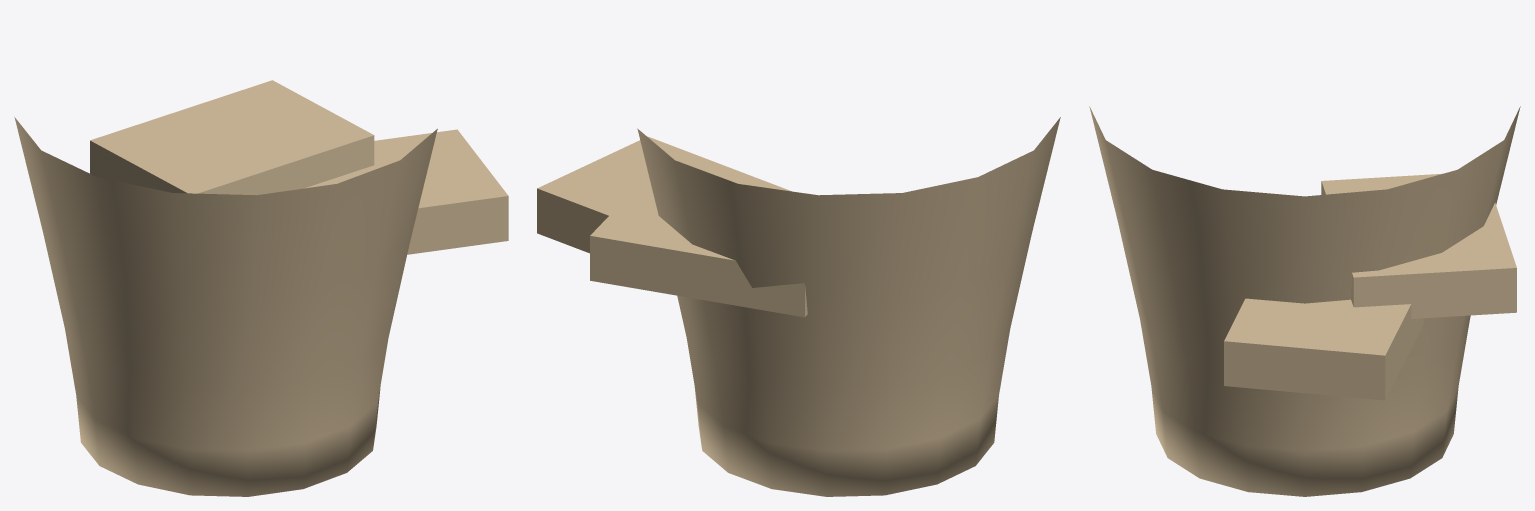
File: GioQuanAo.glb
3 renders of one model, left to right at view 1: azimuth 30°, elevation 25°; view 2: azimuth 150°, elevation 25°; view 3: azimuth 270°, elevation 25°, orthographic.
Parts seen in each view (by area): view 1: geometry_0; view 2: geometry_0; view 3: geometry_0.
Boxes of the visible parts, bbox=[...] form: geometry_0: bbox=[14, 80, 508, 496]; geometry_0: bbox=[537, 117, 1060, 496]; geometry_0: bbox=[1089, 106, 1520, 496].
Bounding box in the file's own units: 0.3186 × 0.22 × 0.2617.
